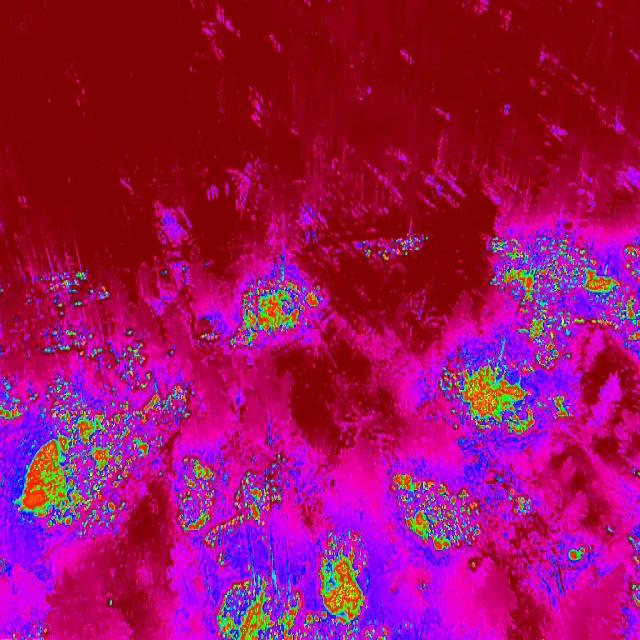fire: (0, 365, 195, 539), (210, 537, 412, 640), (486, 229, 640, 360), (434, 344, 578, 464), (388, 455, 507, 569), (172, 444, 292, 550), (209, 272, 322, 356), (28, 270, 116, 360), (352, 233, 436, 266), (619, 522, 640, 628), (564, 540, 592, 568)
